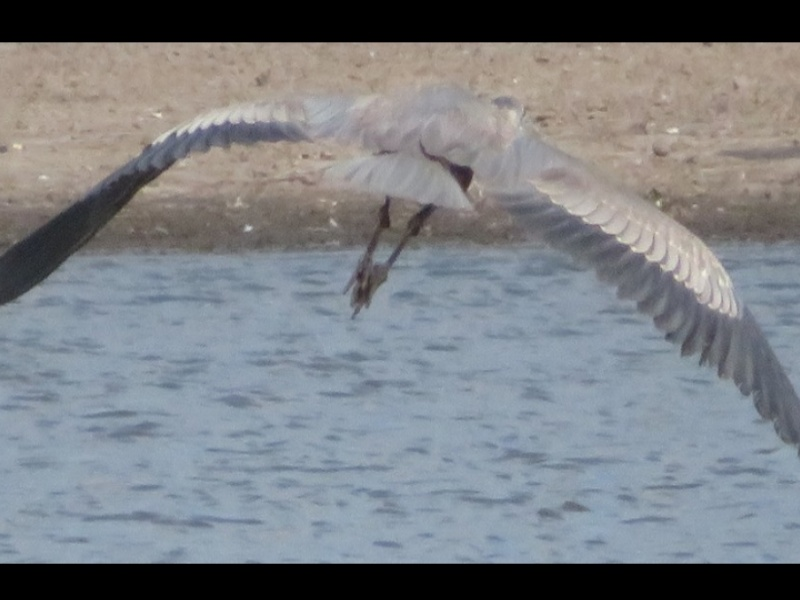heron: (1, 69, 799, 455)
